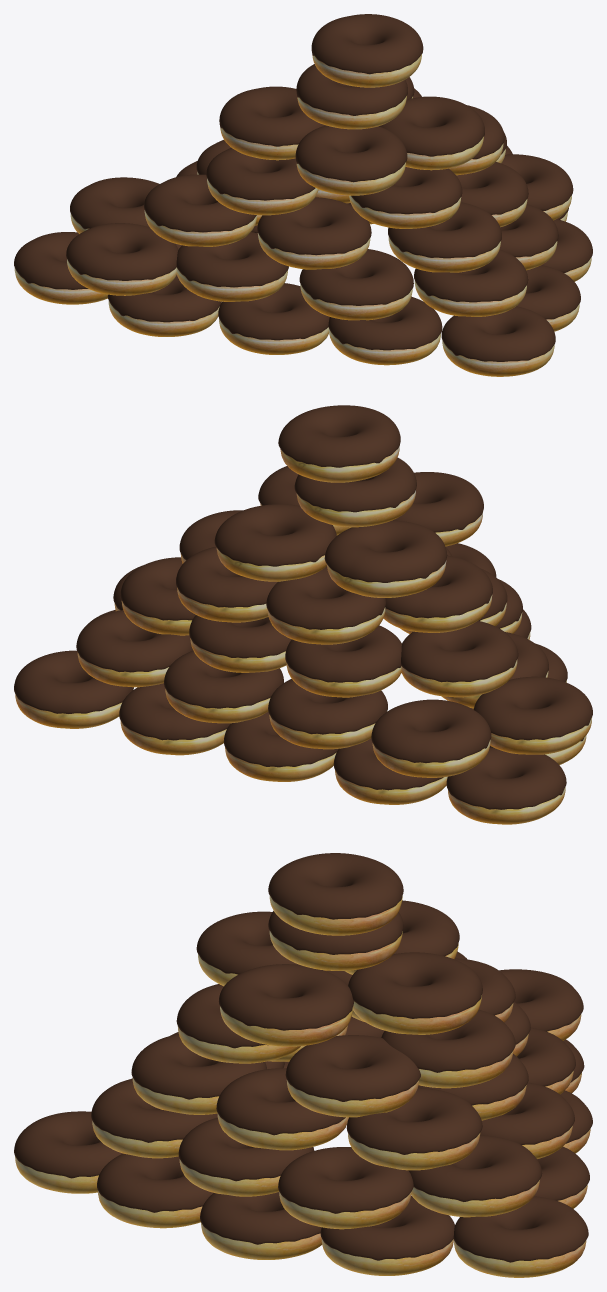
3 views of the same model, one above another, from view 1: azimuth 30°, elevation 25°; view 2: azimuth 150°, elevation 25°; view 3: azimuth 270°, elevation 25° (orthographic). The views are drawn at different scales.
Parts seen in each view (by area): view 1: coffee.001; view 2: coffee.001; view 3: coffee.001.
Boxes of the visible parts, x1=… form: coffee.001: x1=14, y1=14, x2=592, y2=376; coffee.001: x1=14, y1=405, x2=592, y2=824; coffee.001: x1=14, y1=853, x2=592, y2=1277.
Size of the model in its own units: 0.9868 by 0.4814 by 0.8708.
Materials: 2 (1 with a texture image).
